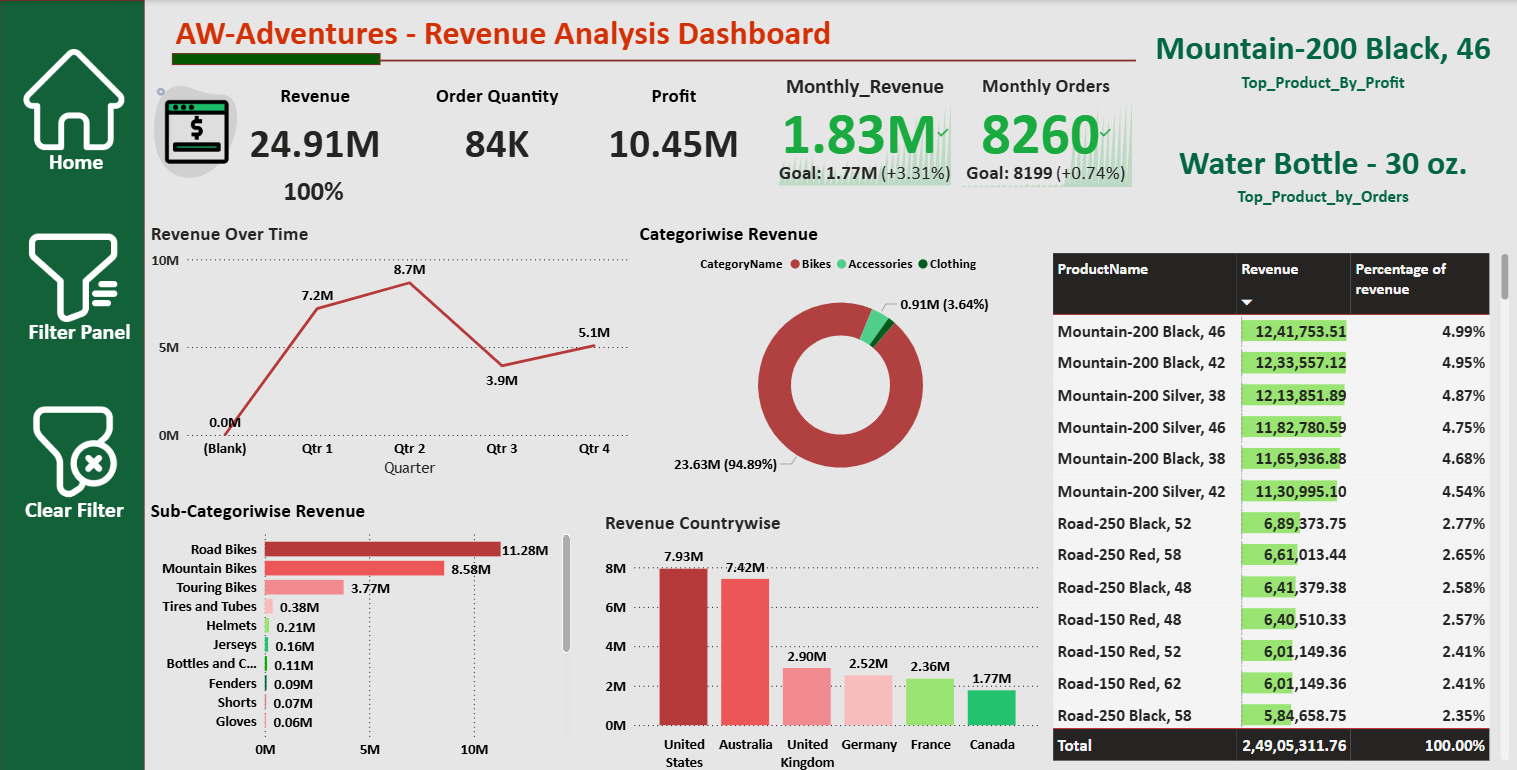

This screenshot's page, from the dashboard's own definition file:
{"tool":"powerbi","page":{"name":"Revenue Analysis","canvas":[1671,850],"ordinal":0},"visuals":[{"type":"columnChart","title":"Revenue Countrywise","fields":{"Category":["Terriotories.Country"],"Y":["Measures_Table.Revenue"],"Series":["Terriotories.Country"]},"box":[658.6,558.2,487.9,293.2],"z":0},{"type":"lineChart","title":"Revenue Over Time","fields":{"Y":["Sum(Sales_Combined.Revenue)"],"Category":["Calender.Date.Variation.Date Hierarchy.Year","Calender.Date.Variation.Date Hierarchy.Quarter","Calender.Date.Variation.Date Hierarchy.Month","Calender.Date.Variation.Date Hierarchy.Day"]},"box":[161.3,242.8,535.6,283.6],"z":1000},{"type":"card","fields":{"Values":["Measures_Table.Revenue"]},"box":[255.8,89,181.6,100.1],"z":2000},{"type":"card","fields":{"Values":["Measures_Table.Percentage of revenue"]},"box":[305.2,188.8,80.3,38.2],"z":3000},{"type":"barChart","title":" Sub-Categoriwise Revenue","fields":{"Category":["Sub-Categories.SubcategoryName"],"Y":["Sum(Sales_Combined.Revenue)"],"Series":["Sub-Categories.SubcategoryName"]},"box":[161.3,544.9,468.9,292.8],"z":4000},{"type":"donutChart","title":"Categoriwise Revenue","fields":{"Category":["Categories.CategoryName"],"Y":["Measures_Table.Revenue"]},"box":[696.9,242.8,450.4,302.1],"z":5000},{"type":"textbox","box":[161.3,0,791.4,63],"z":6000},{"type":"card","fields":{"Values":["Measures_Table.Top_Product_By_Profit"]},"box":[1131.5,5.2,538.9,114.4],"z":7000},{"type":"shape","box":[2,0,158.6,851.4],"z":8000},{"type":"image","box":[16.1,48.2,134.5,120.5],"z":9000},{"type":"textbox","box":[22.1,156.6,126.5,42.2],"z":10000},{"type":"image","box":[16.1,243,132.5,120.5],"z":11000},{"type":"textbox","box":[22.1,343.4,134.5,42.2],"z":12000},{"type":"image","box":[16.1,433.7,132.5,120.5],"z":13000},{"type":"textbox","box":[18.1,538.1,132.5,40.2],"z":14000},{"type":"image","box":[161.1,79.7,114.4,128.2],"z":15000},{"type":"tableEx","fields":{"Values":["Products.ProductName","Measures_Table.Revenue","Measures_Table.Percentage of revenue"]},"box":[1147.3,272.5,509.7,565.3],"z":16000},{"type":"card","fields":{"Values":["Measures_Table.Top_Product_by_Orders"]},"box":[1131.5,128.2,538.9,116.1],"z":17000},{"type":"kpi","title":"Monthly_Revenue ","fields":{"Indicator":["Measures_Table.Monthly_Revenue"],"Goal":["Measures_Table.Target_Month_Revenue"],"TrendLine":["Calender.Date"]},"box":[902.8,75,283.9,151.5],"z":18000},{"type":"kpi","title":"Monthly Orders ","fields":{"Indicator":["Measures_Table.Monthly Orders"],"Goal":["Measures_Table.Last_Month_Orders"],"TrendLine":["Calender.Date"]},"box":[604.6,75,283.9,151.5],"z":19000},{"type":"card","fields":{"Values":["Sum(Sales_Combined.OrderQuantity)"]},"box":[436.6,88.4,194.1,98.8],"z":21000}]}

Visuals, with their boxes in screenshot pixels (x1, y1, x2, y2), scaled from the page's 1671x850 canvas onto the 1517x770 screenshot:
"Revenue Countrywise" columnChart: <box>598,506,1041,769</box>
"Revenue Over Time" lineChart: <box>146,220,633,477</box>
card - Measures_Table.Revenue: <box>232,81,397,171</box>
card - Measures_Table.Percentage of revenue: <box>277,171,350,206</box>
" Sub-Categoriwise Revenue" barChart: <box>146,494,572,759</box>
"Categoriwise Revenue" donutChart: <box>633,220,1042,494</box>
textbox: <box>146,0,865,57</box>
card - Measures_Table.Top_Product_By_Profit: <box>1027,5,1516,108</box>
shape: <box>2,0,146,769</box>
image: <box>15,44,137,153</box>
textbox: <box>20,142,135,180</box>
image: <box>15,220,135,329</box>
textbox: <box>20,311,142,349</box>
image: <box>15,393,135,502</box>
textbox: <box>16,487,137,524</box>
image: <box>146,72,250,188</box>
tableEx - Products.ProductName x Measures_Table.Revenue: <box>1042,247,1504,759</box>
card - Measures_Table.Top_Product_by_Orders: <box>1027,116,1516,221</box>
"Monthly_Revenue " kpi: <box>820,68,1077,205</box>
"Monthly Orders " kpi: <box>549,68,807,205</box>
card - Sum(Sales_Combined.OrderQuantity): <box>396,80,573,170</box>
